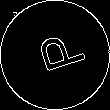P_W: (25, 29, 85, 80)
